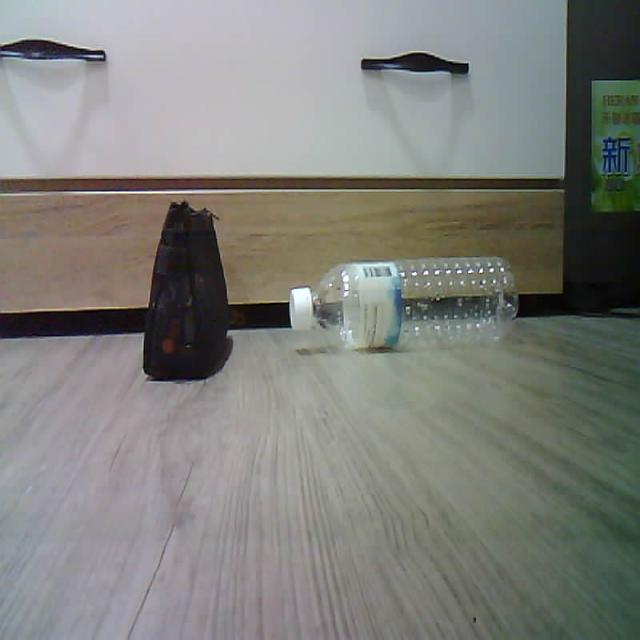bottle: (290, 256, 518, 349)
